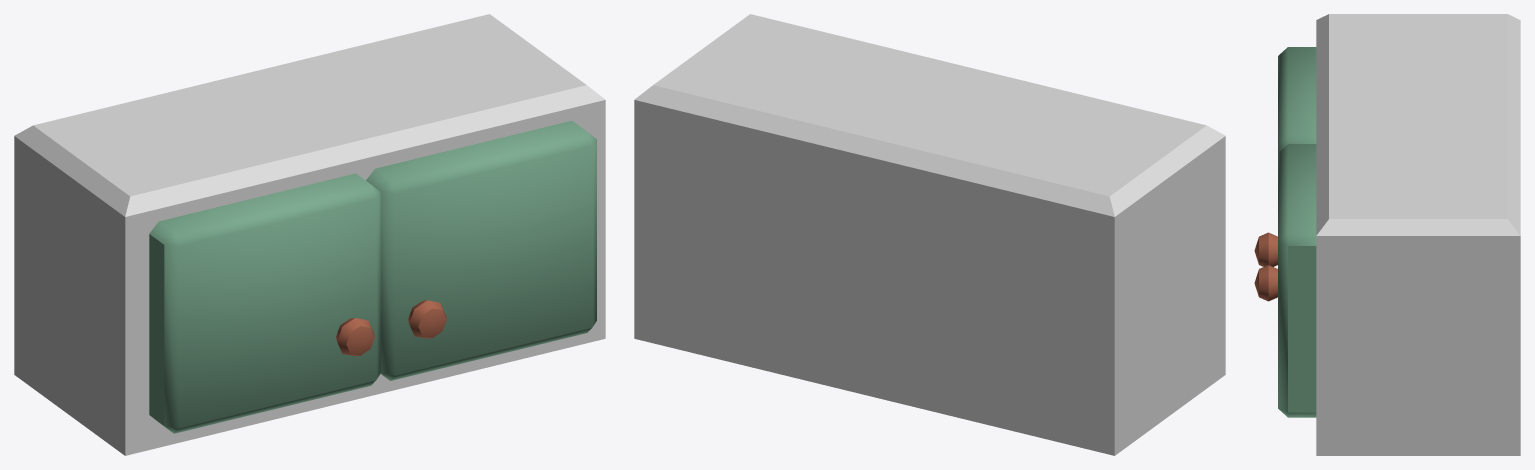
File: kitchenCabinet.fbx
The picture shows the model from 3 angles, left to right: view 1: azimuth 30°, elevation 25°; view 2: azimuth 150°, elevation 25°; view 3: azimuth 270°, elevation 25°; orthographic projection. The views are drawn at different scales.
Visible parts, largest first — view 1: kitchencabinet_half; view 2: kitchencabinet_half; view 3: kitchencabinet_half.
Part boxes in pixels (x1,y1,x2,y2): kitchencabinet_half: (14, 14, 605, 455); kitchencabinet_half: (634, 14, 1225, 455); kitchencabinet_half: (1254, 14, 1520, 455).
Bounding box in the file's own units: 200 × 100 × 104.
